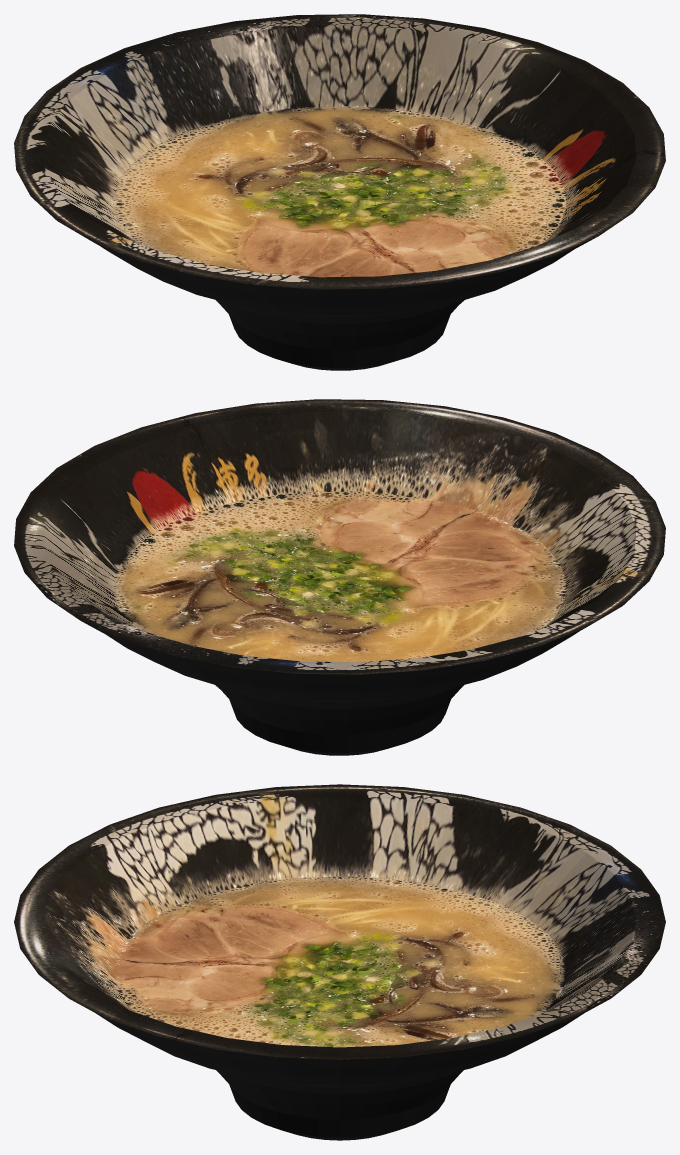
Rendered from ikkousya.fbx.
3 views of the same model, one above another, from view 1: azimuth 30°, elevation 25°; view 2: azimuth 150°, elevation 25°; view 3: azimuth 270°, elevation 25° (orthographic).
Visible parts, largest first — view 1: Cylinder; view 2: Cylinder; view 3: Cylinder.
Boxes of the visible parts, bbox=[...] form: Cylinder: bbox=[14, 14, 665, 370]; Cylinder: bbox=[14, 399, 665, 755]; Cylinder: bbox=[14, 784, 665, 1140].
Bounding box in the file's own units: 1452 × 457 × 1452.
Materials: 1 (1 with a texture image).
